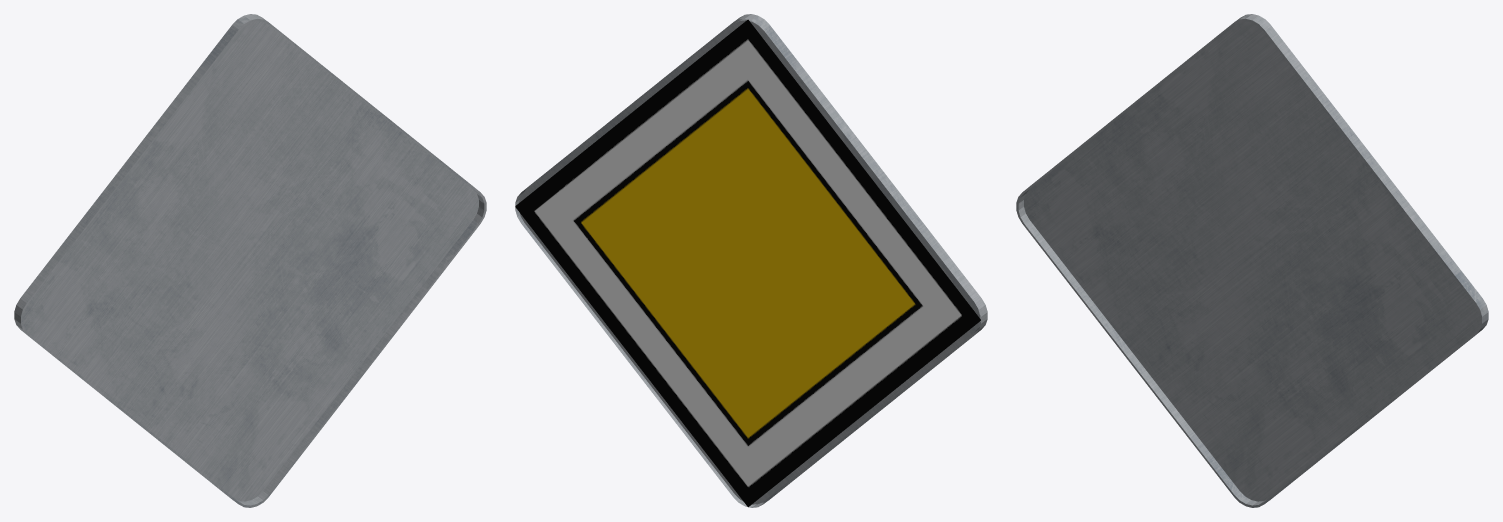
File: Main_road_v2.fbx
3 renders of one model, left to right at view 1: azimuth 30°, elevation 25°; view 2: azimuth 150°, elevation 25°; view 3: azimuth 330°, elevation 25°, orthographic.
Parts seen in each view (by area): view 1: Main road v2; view 2: Main road v2; view 3: Main road v2.
Part boxes in pixels (box(x1,y1,x2,y2)): Main road v2: box(14, 14, 486, 507); Main road v2: box(515, 14, 987, 507); Main road v2: box(1016, 14, 1488, 507).
Bounding box in the file's own units: 0.02 × 0.8171 × 0.8171.
